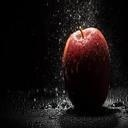apple: (63, 26, 111, 114)
